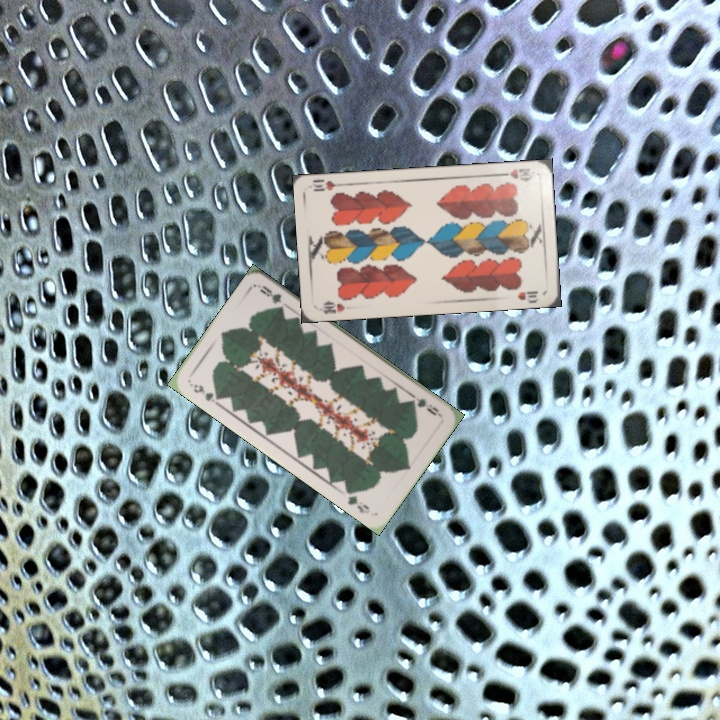G9: (186, 379, 224, 408), (406, 391, 444, 419)
H10: (496, 164, 537, 183), (319, 297, 347, 317)
